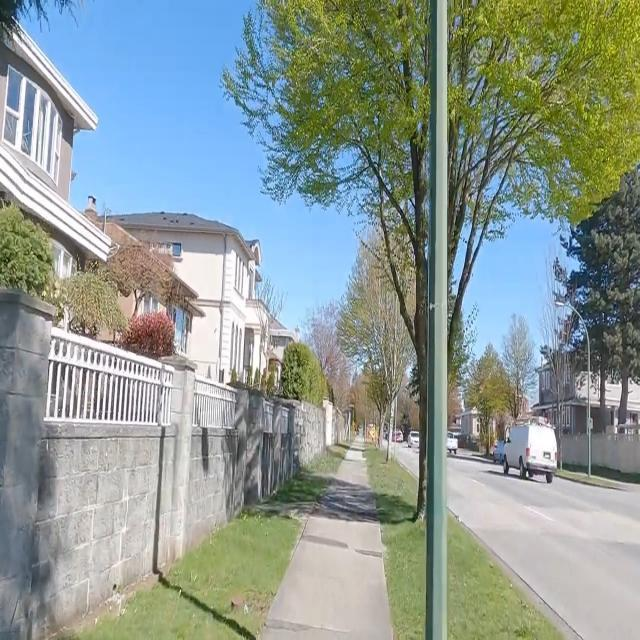Automobile: (504, 418, 556, 482), (447, 433, 457, 453), (408, 432, 418, 447)
Obstacle: (73, 514, 300, 639), (36, 422, 160, 625), (425, 0, 447, 639), (450, 518, 561, 639), (157, 426, 244, 567), (366, 448, 424, 639)
Road: (447, 451, 639, 639), (396, 446, 416, 475)
Sidewalk: (262, 505, 392, 639), (334, 450, 373, 511)
